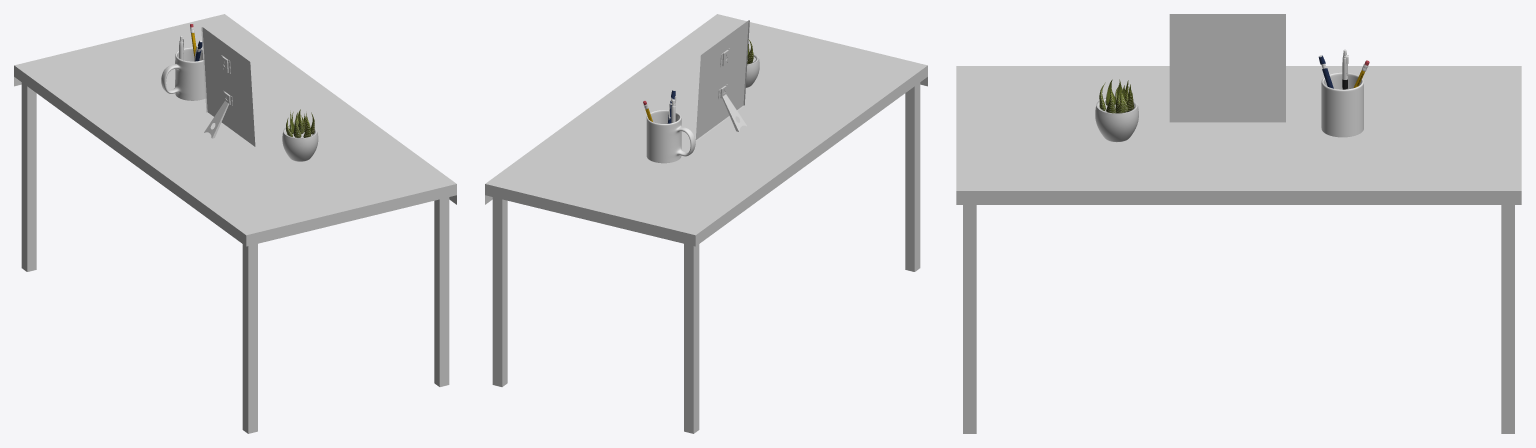
File: tableAcrylic.glb
The picture shows the model from 3 angles, left to right: view 1: azimuth 30°, elevation 25°; view 2: azimuth 150°, elevation 25°; view 3: azimuth 270°, elevation 25°; orthographic projection. The views are drawn at different scales.
Visible parts, largest first — view 1: Table.003, Plane.001, Object_4.003, Cylinder.006_Flowerpot5_0.003, Plane.081_Haworthia_leaf_0.003; view 2: Table.003, Plane.001, Object_4.003; view 3: Table.003, Plane, Object_4.003, Cylinder.006_Flowerpot5_0.003, Plane.081_Haworthia_leaf_0.003.
Boxes of the visible parts, <box> form: Table.003: <box>14,14,456,433</box>; Plane.001: <box>202,27,255,146</box>; Object_4.003: <box>161,47,205,100</box>; Cylinder.006_Flowerpot5_0.003: <box>282,125,318,161</box>; Plane.081_Haworthia_leaf_0.003: <box>286,109,314,137</box>; Table.003: <box>485,14,927,433</box>; Plane.001: <box>695,20,749,140</box>; Object_4.003: <box>646,110,695,163</box>; Table.003: <box>956,66,1521,433</box>; Plane: <box>1169,14,1285,122</box>; Object_4.003: <box>1321,72,1363,137</box>; Cylinder.006_Flowerpot5_0.003: <box>1095,98,1138,142</box>; Plane.081_Haworthia_leaf_0.003: <box>1099,79,1134,113</box>.
Size of the model in its own units: 1.1 by 1.44 by 2.1.
12 materials, 2 textured.
